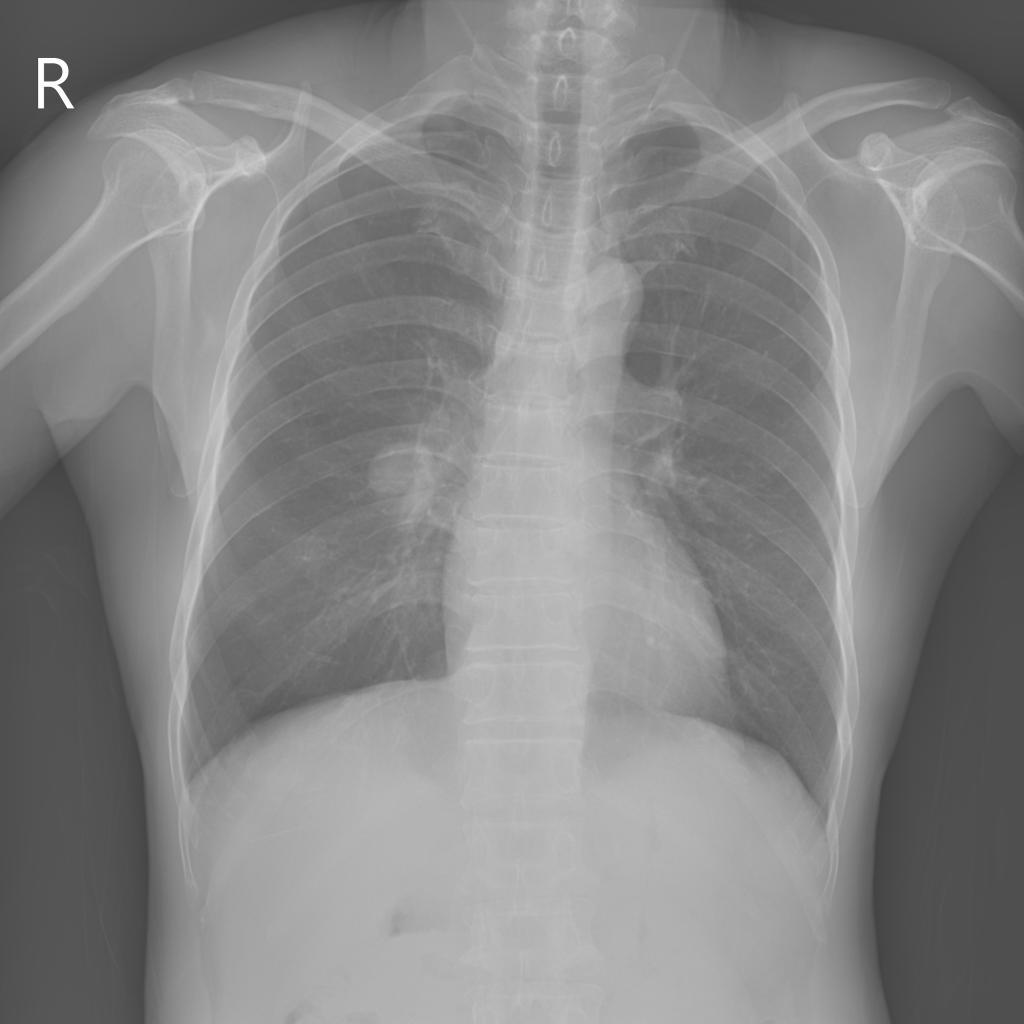Nodule: (368, 444, 425, 496)
